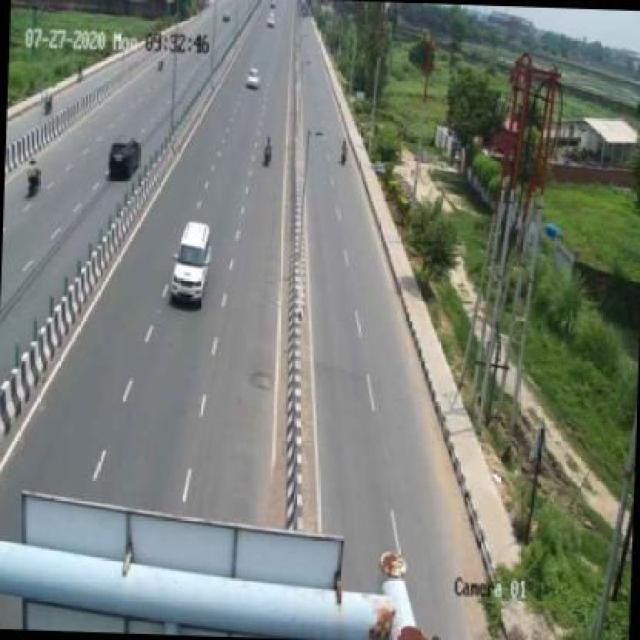car: (170, 222, 216, 310), (105, 134, 149, 178), (245, 66, 266, 94)
